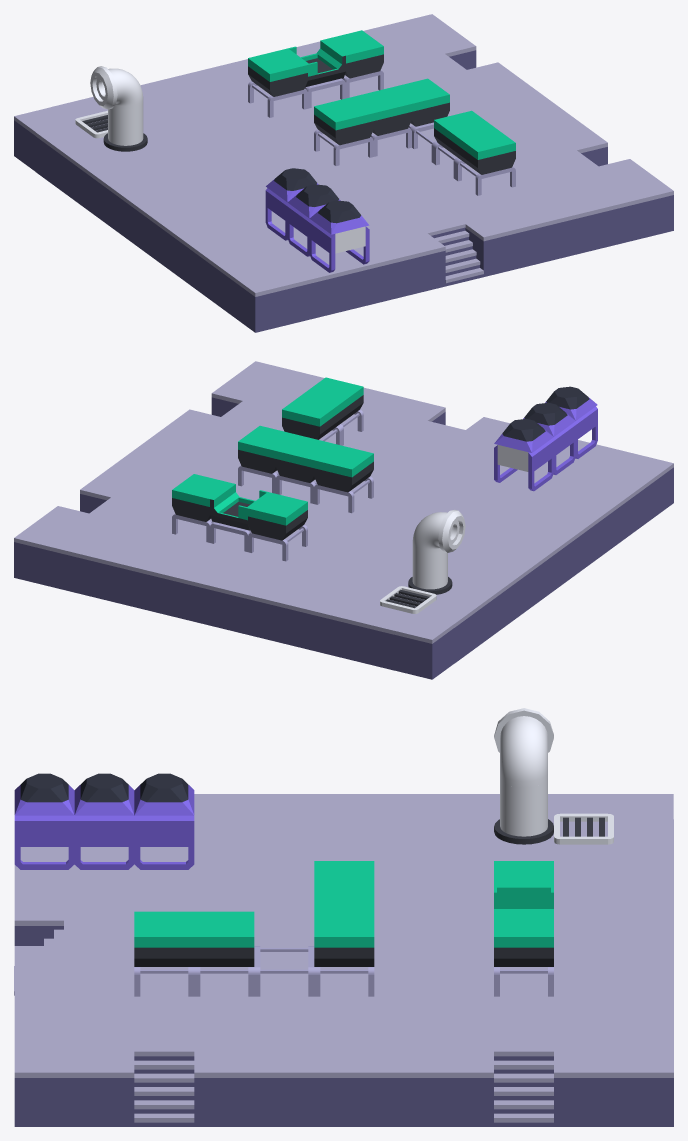
The model's file is room1.obj.
3 renders of one model, top to bottom at view 1: azimuth 30°, elevation 25°; view 2: azimuth 150°, elevation 25°; view 3: azimuth 270°, elevation 25°, orthographic. The views are drawn at different scales.
Visible parts, largest first — view 1: mergedBlocks; view 2: mergedBlocks; view 3: mergedBlocks.
Part boxes in pixels (x1=…): mergedBlocks: x1=14, y1=14, x2=673, y2=332; mergedBlocks: x1=14, y1=361, x2=673, y2=679; mergedBlocks: x1=14, y1=708, x2=673, y2=1126.
Size of the model in its own units: 11.01 by 3 by 11.01.
